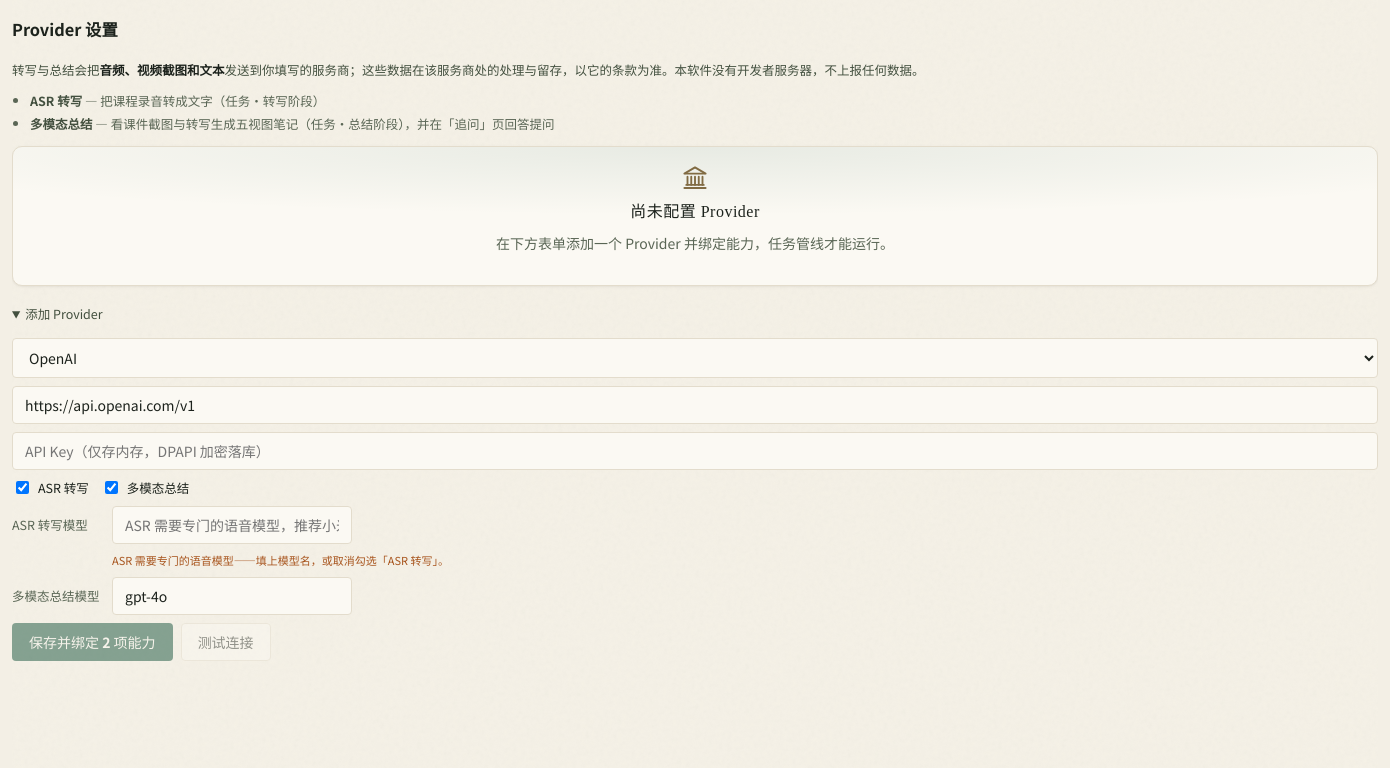
Test: ProviderPanel 首启默认值（批4 P8/D4） › 勾了 asr 却空模型：保存被挡，且输入框下有一行可见原因（不再静默）
Expected: the button "保存并绑定 2 项能力" is disabled, [12,623,173,661]
Step 1. Click the checkbox labelled "多模态总结" → (111, 488), box [105,481,118,494]
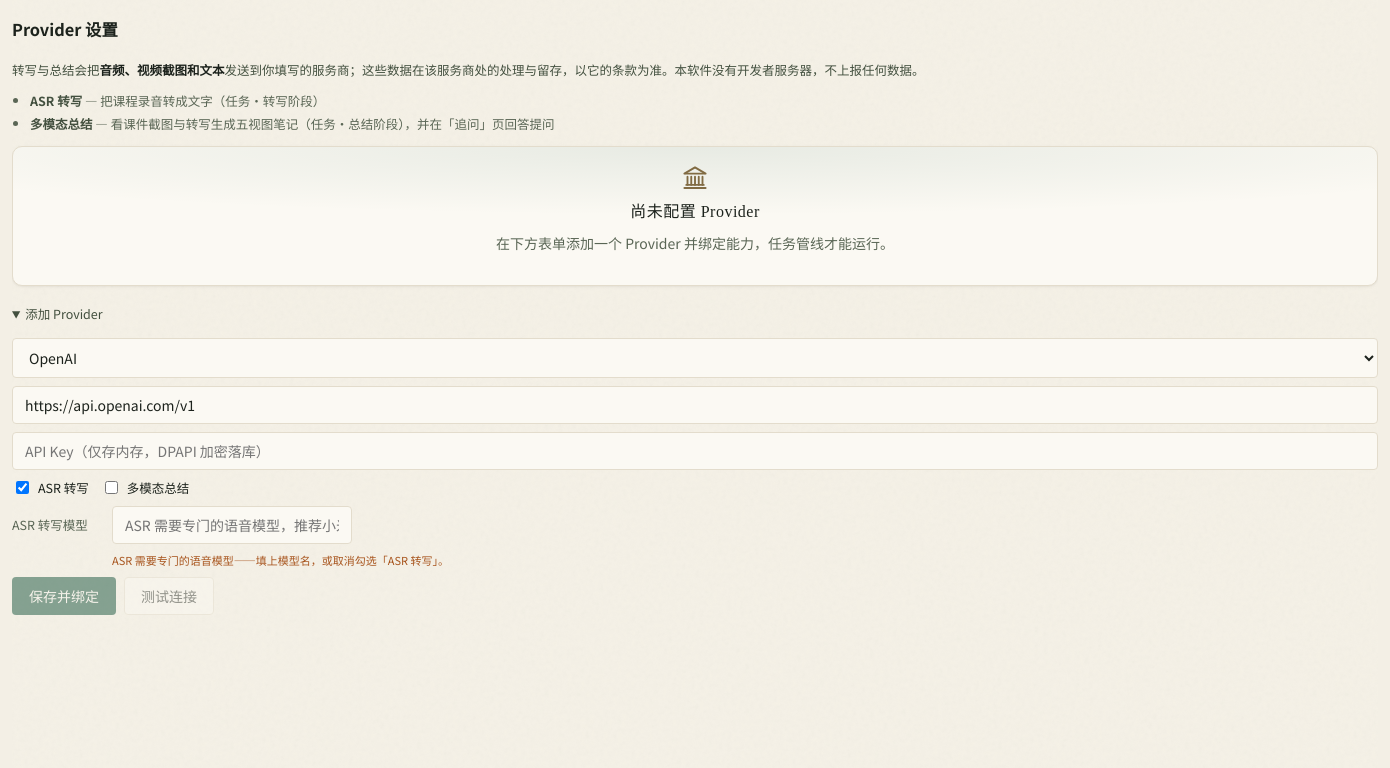
Expected: the text with class "capability-model-reason" shows "ASR 需要专门的语音模型", [112,552,449,568]
Expected: the checkbox labelled "多模态总结" is not checked, [105,481,118,494]
Step 2. Type "mimo-v2.5-asr" into the field with placeholder "ASR 需要专门的语音模型，推荐小米 MiMo 的 mimo-v2.5-asr" → (232, 525), box [112,506,352,544]
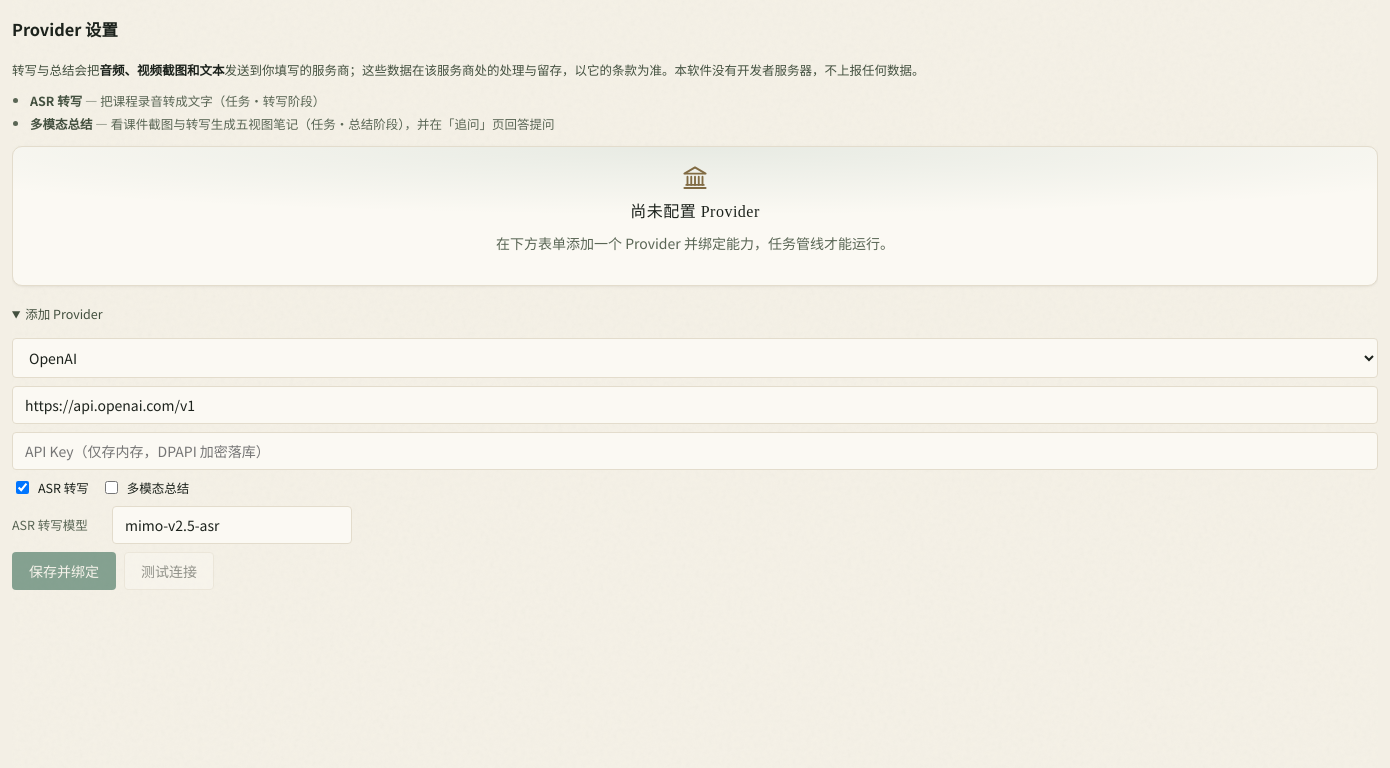
Expected: the button "保存并绑定" is disabled, [12,552,116,590]
Expected: the text with class "capability-model-reason" is gone
Step 3. Type "sk-test" into the password field with placeholder "API Key（仅存内存，DPAPI 加密落库）" → (695, 451), box [12,432,1378,470]
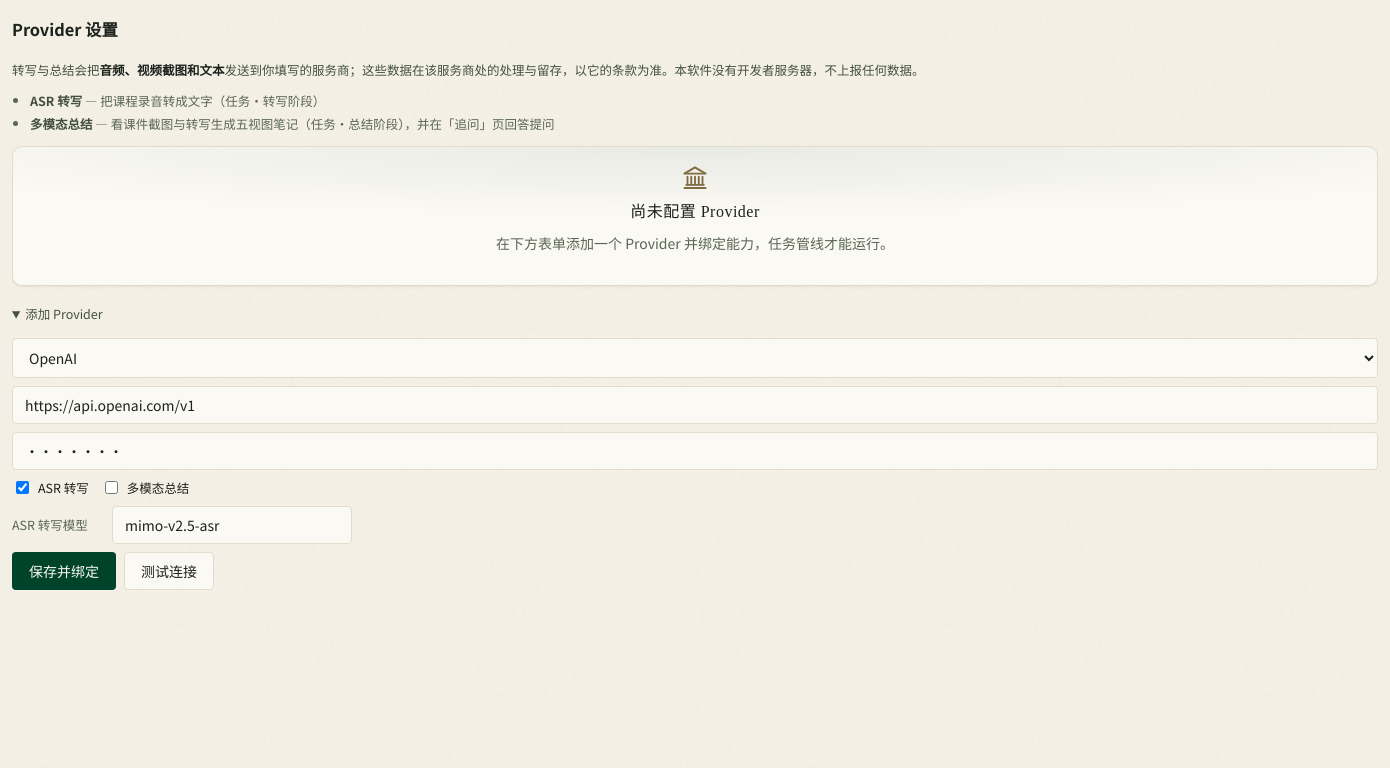
Expected: the button "保存并绑定" is enabled, [12,552,116,590]
